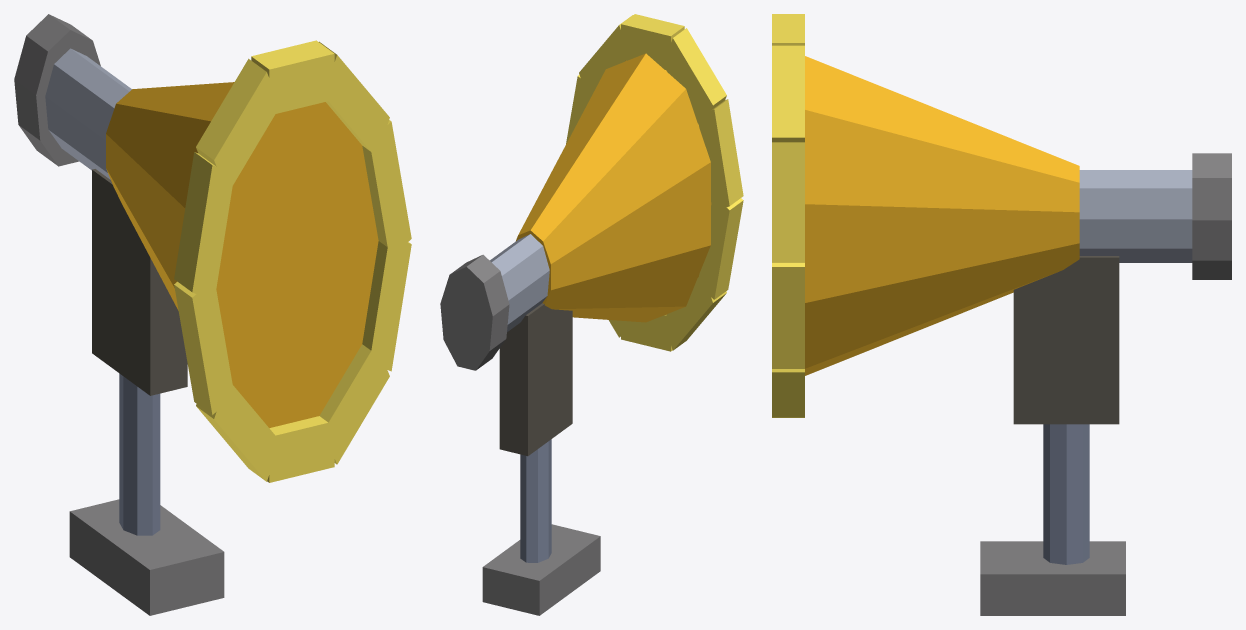
File: horn.glb
3 renders of one model, left to right at view 1: azimuth 30°, elevation 25°; view 2: azimuth 150°, elevation 25°; view 3: azimuth 270°, elevation 25°, orthographic. The views are drawn at different scales.
Parts seen in each view (by area): view 1: horn; view 2: horn; view 3: horn.
Boxes of the visible parts, box(x1,y1,x2,y2) form: horn: box(14, 14, 411, 615); horn: box(440, 14, 743, 615); horn: box(772, 14, 1231, 615).
Size of the model in its own units: 0.25 by 0.685 by 0.5.
